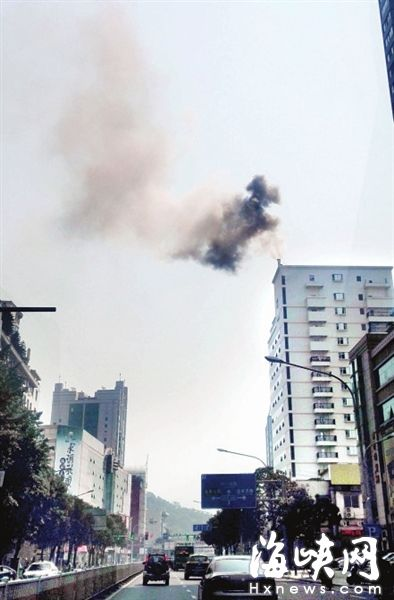smoke: (44, 50, 302, 275)
